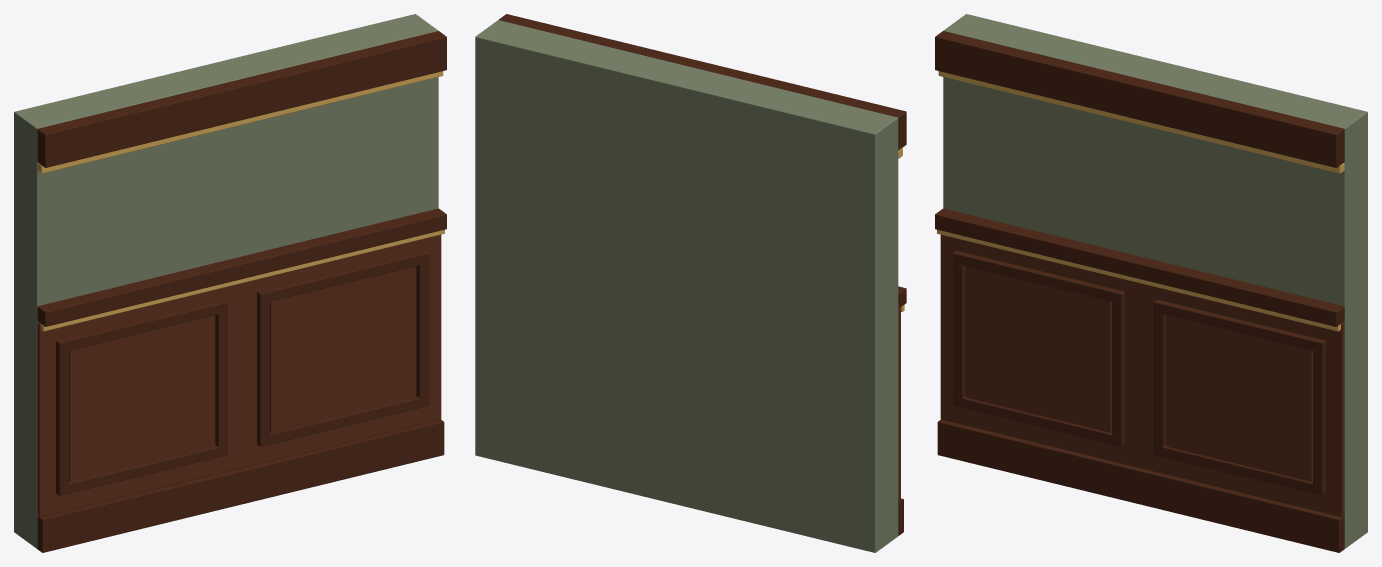
The model's file is MASTER_ROOM_WALL.fbx.
3 renders of one model, left to right at view 1: azimuth 30°, elevation 25°; view 2: azimuth 150°, elevation 25°; view 3: azimuth 330°, elevation 25°, orthographic.
Parts seen in each view (by area): view 1: 03_DirectorWall_Intact_Wall_Core_Wallpaper; view 2: 03_DirectorWall_Intact_Wall_Core_Wallpaper; view 3: 03_DirectorWall_Intact_Wall_Core_Wallpaper.
Part boxes in pixels (bbox=[...]): 03_DirectorWall_Intact_Wall_Core_Wallpaper: bbox=[14, 14, 446, 552]; 03_DirectorWall_Intact_Wall_Core_Wallpaper: bbox=[475, 14, 906, 552]; 03_DirectorWall_Intact_Wall_Core_Wallpaper: bbox=[935, 14, 1367, 552].
Size of the model in its own units: 100 by 100 by 13.6.
